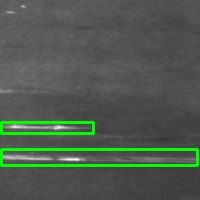scratches: (1, 149, 197, 165), (1, 122, 93, 133)
